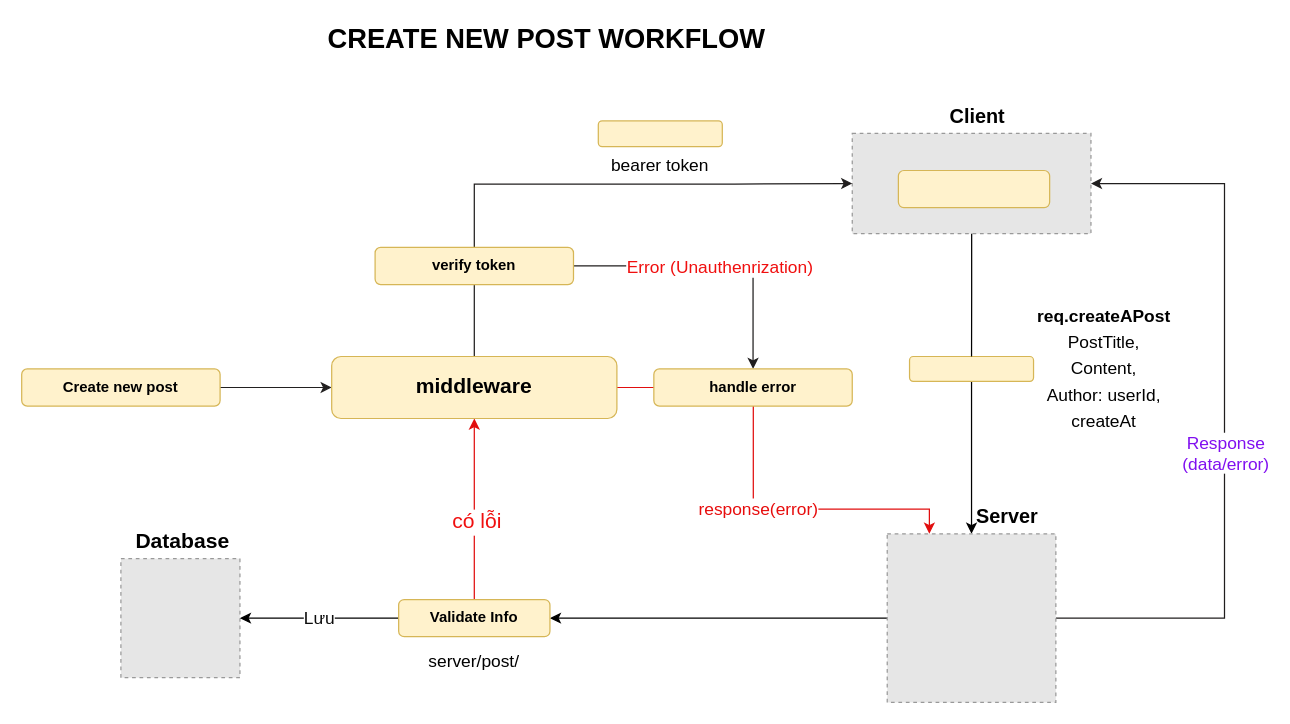
The diagram is 1290 pixels wide and 724 high, and some of its shapes have lost their labels. Grey dashed boxes stand in for pictures. Here are the shapes that lost their labels. From the top down, the box of each, then its label:
(597, 120, 722, 147): req header
(897, 169, 1050, 208): LocalStorage
(908, 355, 1034, 381): POST
